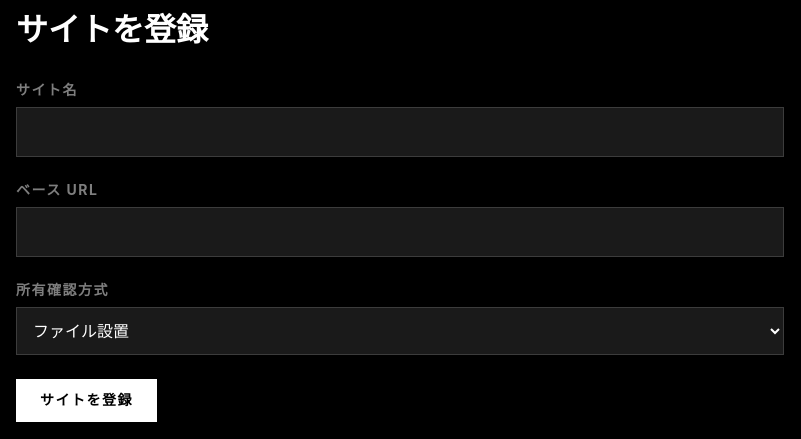
Test: pages/sites/new › localhost 登録は即 verified で成功導線を表示する
The width and height of the screenshot is (801, 439).
Type "X" into the field with test id "field-name".
click(400, 132); type("X")  # box [16, 107, 784, 157]
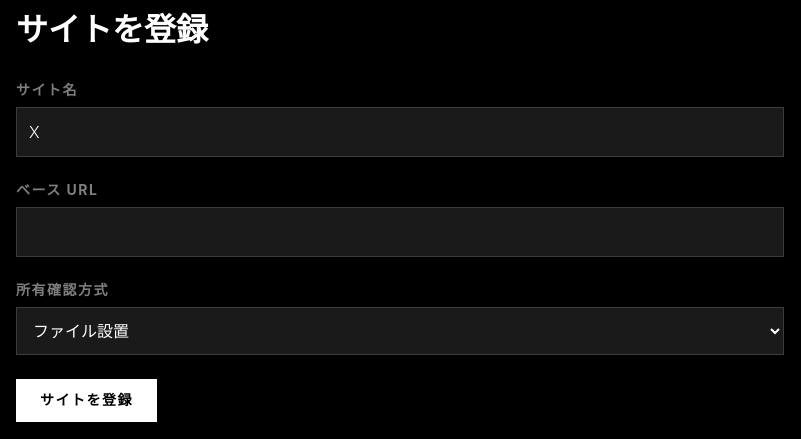
Type "http://localhost:3001" into the field with test id "field-base-url".
click(400, 232); type("http://localhost:3001")  # box [16, 207, 784, 257]
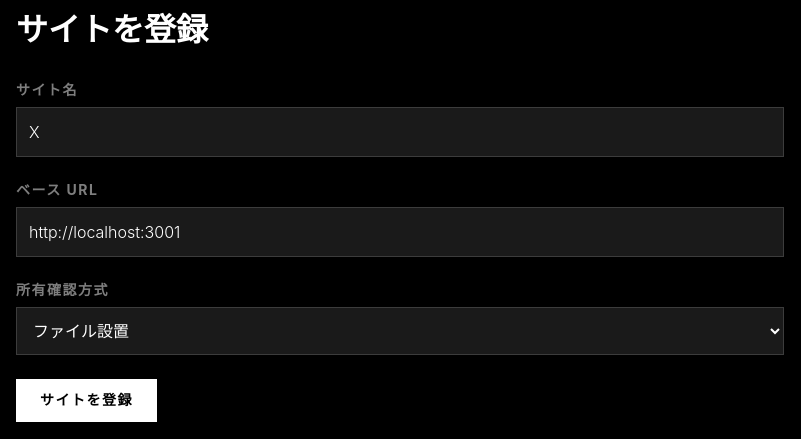
Submit the form
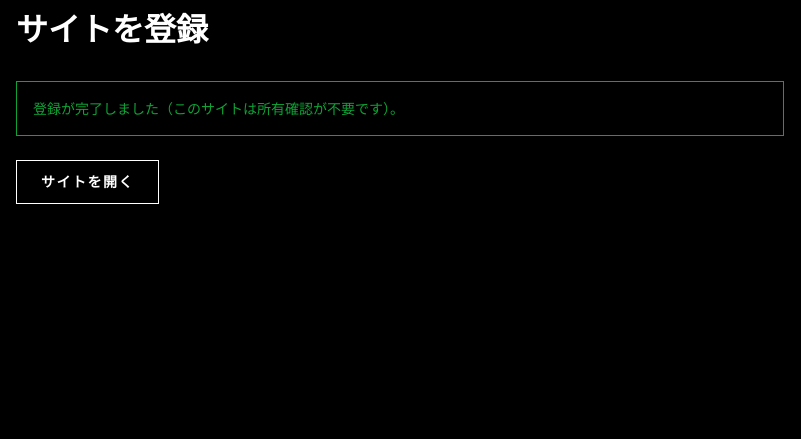
Expected: the text "登録が完了しました" is shown, [33, 100, 404, 117]
Expected: the link with test id "go-site" is shown, [16, 160, 159, 204]
